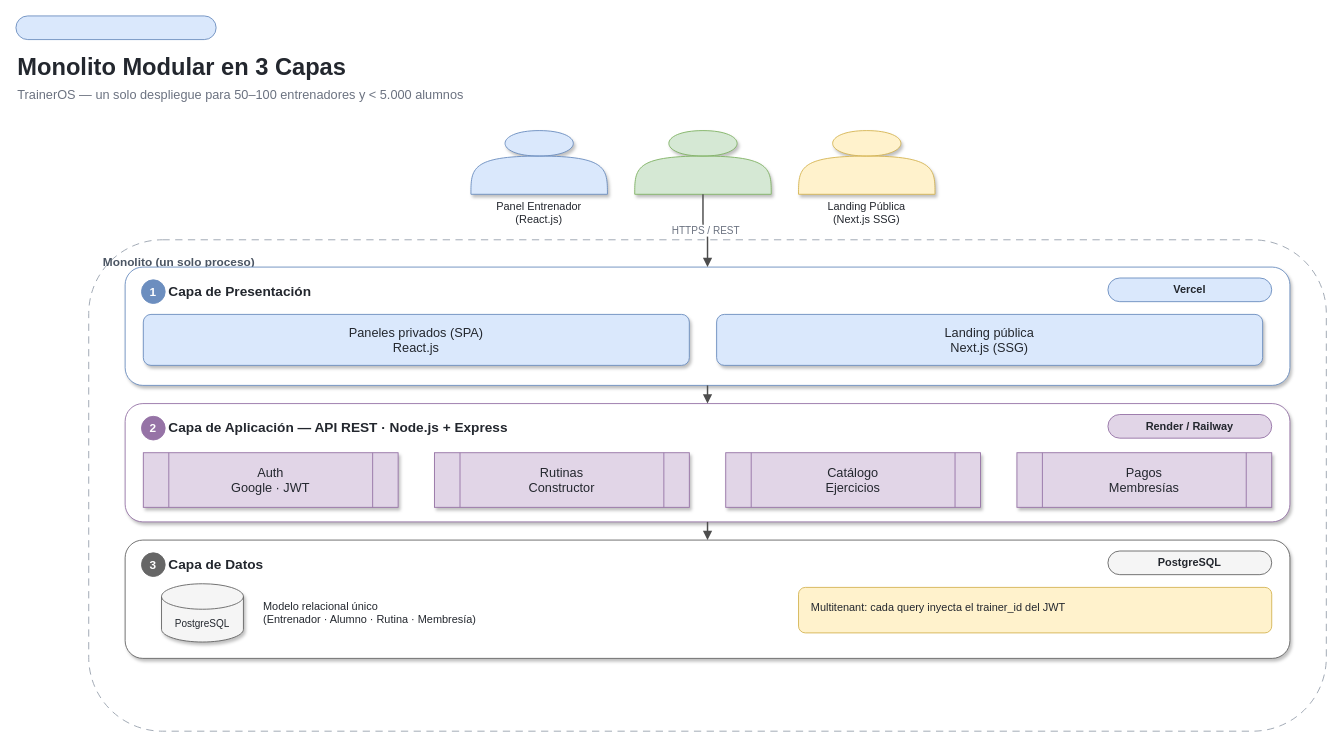
Image size: 1342x747. Some labels were removed from this diagram. The shapes that lost their labels are listed below. From the top down, each one's centre as x and y in pixels, then its label:
At (x=115, y=27): "FASE 1 · MVP".
At (x=703, y=163): "App Alumno (React.js)".
